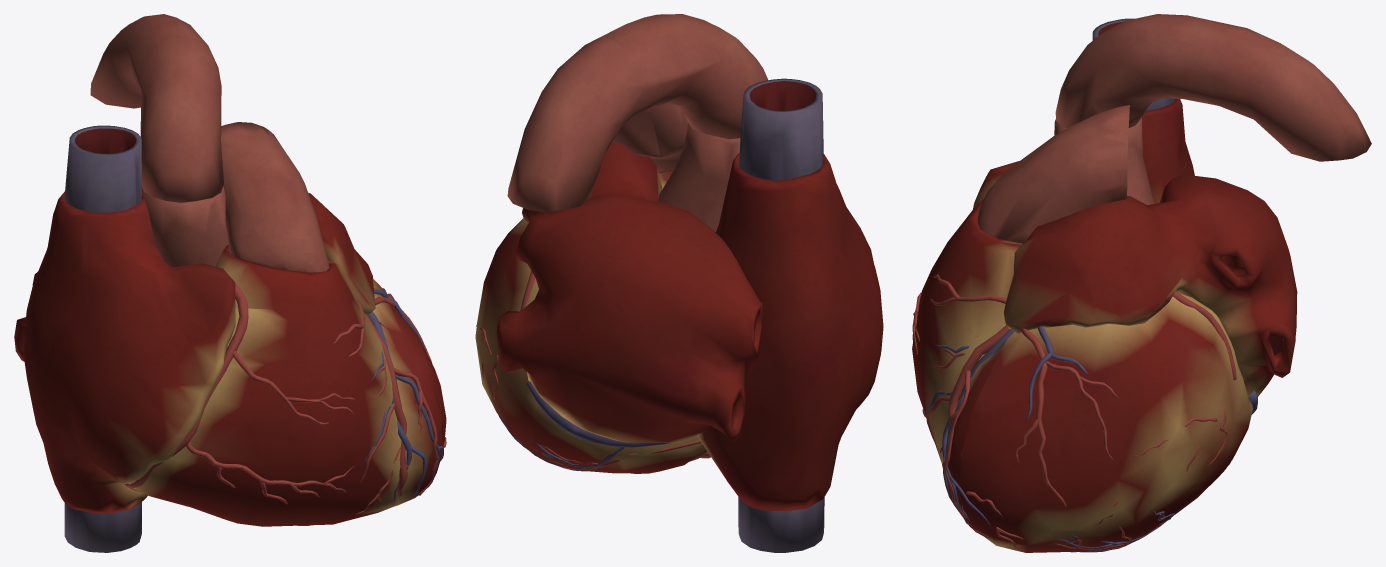
Rendered from heart.glb.
The picture shows the model from 3 angles, left to right: view 1: azimuth 30°, elevation 25°; view 2: azimuth 150°, elevation 25°; view 3: azimuth 270°, elevation 25°; orthographic projection. The views are drawn at different scales.
Parts seen in each view (by area): view 1: Heart_Wall_RightVentricle, Heart_Wall_RightAtrium, Aorta_Arch, PulmonaryTrunk, VenaCava_Superior, Aorta_Ascending, Heart_Wall_LeftAtrium, VenaCava_Inferior, Heart_Wall_LeftVentricle, CoronaryVein_AnteriorInterventricularVein, CoronaryArtery_Trunk_RCA, CoronaryArtery_MarginalBranch_RCA (+3 smaller); view 2: Heart_Wall_LeftAtrium, Heart_Wall_RightAtrium, Aorta_Arch, Heart_Wall_LeftVentricle, VenaCava_Superior, Aorta_Ascending, VenaCava_Inferior, PulmonaryTrunk, CoronaryVein_CoronarySinus, CoronaryVein_PosteriorVeinOfLeftVentricle; view 3: Heart_Wall_LeftVentricle, Heart_Wall_LeftAtrium, Aorta_Arch, Heart_Wall_RightVentricle, PulmonaryTrunk, Heart_Wall_RightAtrium, CoronaryArtery_DiagonalBranch_LAD, CoronaryVein_AnteriorInterventricularVein, Aorta_Ascending, CoronaryArtery_CircumflexBranch_LCA, CoronaryArtery_Trunk_LAD.
Part boxes in pixels (bbox=[...]): Heart_Wall_RightVentricle: bbox=[128, 245, 442, 526]; Heart_Wall_RightAtrium: bbox=[23, 191, 235, 513]; Aorta_Arch: bbox=[90, 14, 223, 202]; PulmonaryTrunk: bbox=[221, 122, 329, 272]; VenaCava_Superior: bbox=[64, 125, 141, 212]; Aorta_Ascending: bbox=[142, 186, 228, 267]; Heart_Wall_LeftAtrium: bbox=[14, 193, 375, 361]; VenaCava_Inferior: bbox=[64, 502, 141, 552]; Heart_Wall_LeftVentricle: bbox=[373, 278, 446, 505]; CoronaryVein_AnteriorInterventricularVein: bbox=[364, 288, 443, 501]; CoronaryArtery_Trunk_RCA: bbox=[124, 284, 248, 492]; CoronaryArtery_MarginalBranch_RCA: bbox=[186, 442, 354, 504]; Heart_Wall_LeftAtrium: bbox=[496, 141, 762, 442]; Heart_Wall_RightAtrium: bbox=[697, 153, 883, 510]; Aorta_Arch: bbox=[507, 14, 767, 212]; Heart_Wall_LeftVentricle: bbox=[475, 172, 705, 473]; VenaCava_Superior: bbox=[738, 78, 823, 180]; Aorta_Ascending: bbox=[658, 123, 740, 231]; VenaCava_Inferior: bbox=[738, 497, 824, 552]; PulmonaryTrunk: bbox=[613, 103, 688, 173]; CoronaryVein_CoronarySinus: bbox=[526, 381, 670, 447]; CoronaryVein_PosteriorVeinOfLeftVentricle: bbox=[498, 415, 624, 470]; Heart_Wall_LeftVentricle: bbox=[959, 293, 1252, 552]; Heart_Wall_LeftAtrium: bbox=[1003, 175, 1297, 396]; Aorta_Arch: bbox=[1055, 14, 1371, 161]; Heart_Wall_RightVentricle: bbox=[912, 199, 1022, 524]; PulmonaryTrunk: bbox=[977, 105, 1129, 243]; Heart_Wall_RightAtrium: bbox=[973, 98, 1194, 208]; CoronaryArtery_DiagonalBranch_LAD: bbox=[943, 328, 1118, 548]; CoronaryVein_AnteriorInterventricularVein: bbox=[926, 326, 1087, 525]; Aorta_Ascending: bbox=[1054, 118, 1153, 204]; CoronaryArtery_CircumflexBranch_LCA: bbox=[1096, 291, 1236, 524]; CoronaryArtery_Trunk_LAD: bbox=[948, 325, 1009, 429].
Bounding box in the file's own units: 0.1157 × 0.146 × 0.127.
Materials: 7 (2 with a texture image).
